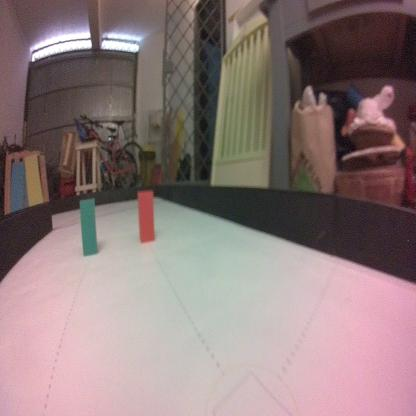green: (78, 195, 99, 258)
red: (136, 188, 154, 246)
